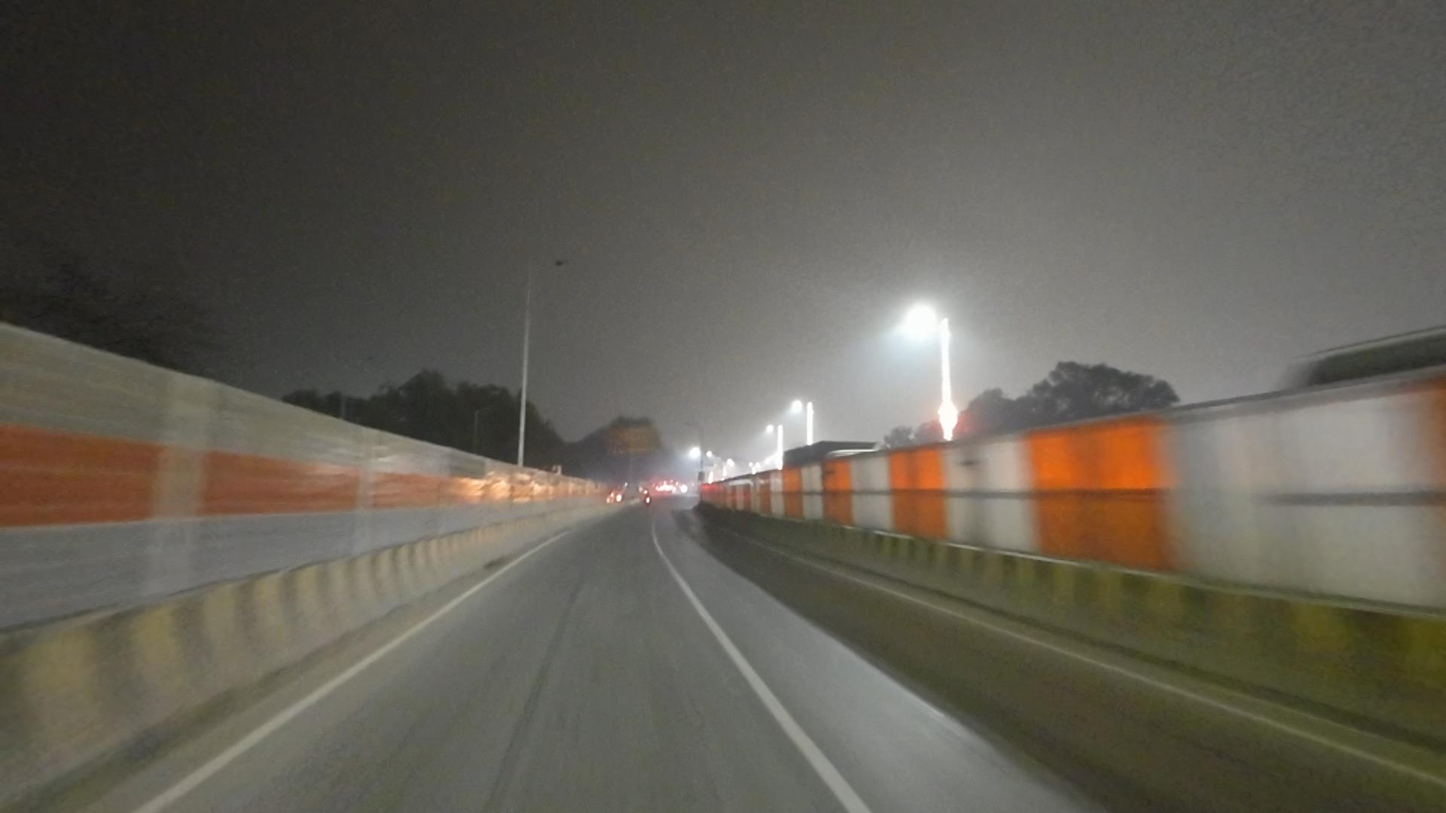streetlight: (540, 258, 571, 273)
